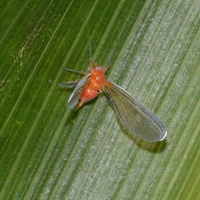insect: (60, 42, 166, 141)
